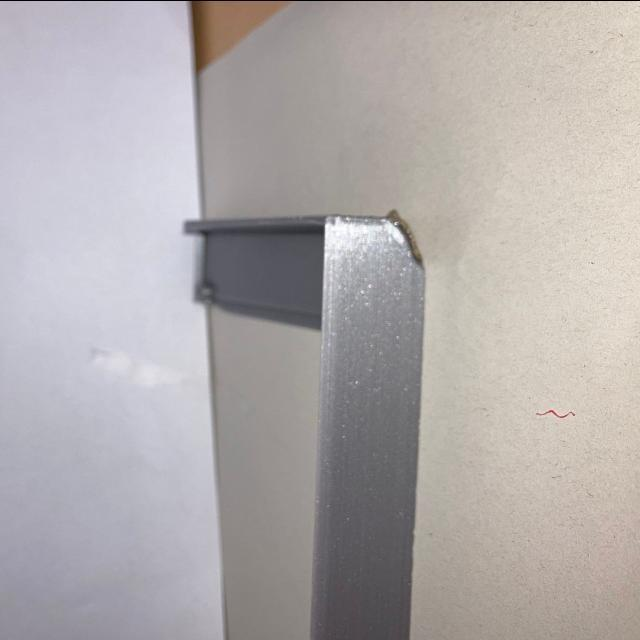Warping: (382, 213, 422, 269)
